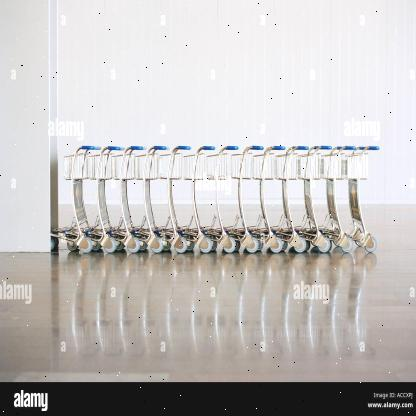airport-trolley: (66, 144, 127, 253), (46, 141, 103, 253), (208, 143, 266, 252), (322, 144, 381, 251), (89, 145, 148, 252), (300, 143, 357, 252), (252, 145, 310, 252), (232, 143, 288, 253), (135, 144, 192, 252), (162, 145, 218, 254), (280, 140, 334, 252), (116, 144, 172, 252), (186, 144, 241, 253)
